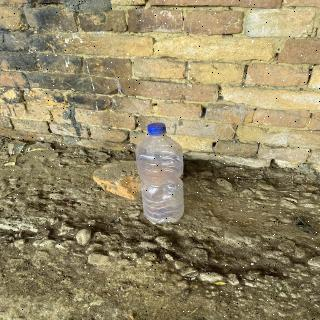Plastic-bottle: (134, 121, 187, 227)
